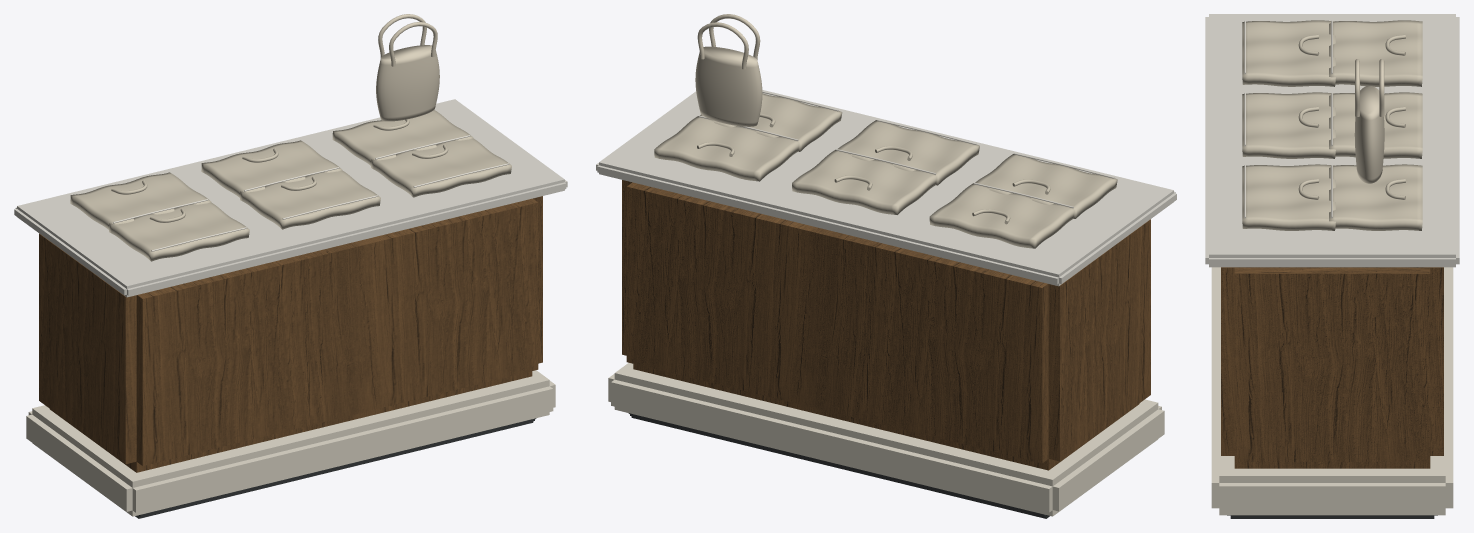
Rendered from collection_v29_apparel_2.glb.
3 renders of one model, left to right at view 1: azimuth 30°, elevation 25°; view 2: azimuth 150°, elevation 25°; view 3: azimuth 270°, elevation 25°, orthographic. The views are drawn at different scales.
Parts seen in each view (by area): view 1: collection_v29_apparel_2_CC0_Oak_veneer, collection_v29_apparel_2_Honed_solid_surface, collection_v29_apparel_2_V29_ivory_lacquer, collection_v29_apparel_2_V23_natural_canvas.001, collection_v29_apparel_2_Woven_1.004, collection_v29_apparel_2_Woven_1.002, collection_v29_apparel_2_Woven_1.006, collection_v29_apparel_2_Woven_1.005, collection_v29_apparel_2_Woven_1.003, collection_v29_apparel_2_Woven_1.007, collection_v29_apparel_2_Anodised_graphite; view 2: collection_v29_apparel_2_CC0_Oak_veneer, collection_v29_apparel_2_Honed_solid_surface, collection_v29_apparel_2_V29_ivory_lacquer, collection_v29_apparel_2_Woven_1.003, collection_v29_apparel_2_Woven_1.007, collection_v29_apparel_2_Woven_1.005, collection_v29_apparel_2_V23_natural_canvas.001, collection_v29_apparel_2_Woven_1.002, collection_v29_apparel_2_Woven_1.004, collection_v29_apparel_2_Woven_1.006, collection_v29_apparel_2_Anodised_graphite; view 3: collection_v29_apparel_2_CC0_Oak_veneer, collection_v29_apparel_2_Honed_solid_surface, collection_v29_apparel_2_V29_ivory_lacquer, collection_v29_apparel_2_Woven_1.002, collection_v29_apparel_2_Woven_1.006, collection_v29_apparel_2_Woven_1.004, collection_v29_apparel_2_Woven_1.003, collection_v29_apparel_2_Woven_1.007, collection_v29_apparel_2_Woven_1.005, collection_v29_apparel_2_V23_natural_canvas.001, collection_v29_apparel_2_Anodised_graphite.
Boxes of the visible parts, box(x1,y1,x2,y2) form: collection_v29_apparel_2_CC0_Oak_veneer: box(39, 196, 542, 472); collection_v29_apparel_2_Honed_solid_surface: box(14, 99, 567, 297); collection_v29_apparel_2_V29_ivory_lacquer: box(26, 370, 555, 516); collection_v29_apparel_2_V23_natural_canvas.001: box(376, 14, 439, 121); collection_v29_apparel_2_Woven_1.004: box(240, 170, 380, 229); collection_v29_apparel_2_Woven_1.002: box(109, 202, 249, 261); collection_v29_apparel_2_Woven_1.006: box(371, 138, 511, 197); collection_v29_apparel_2_Woven_1.005: box(201, 140, 342, 197); collection_v29_apparel_2_Woven_1.003: box(70, 172, 211, 229); collection_v29_apparel_2_Woven_1.007: box(332, 110, 473, 165); collection_v29_apparel_2_Anodised_graphite: box(135, 418, 536, 518); collection_v29_apparel_2_CC0_Oak_veneer: box(622, 180, 1150, 470); collection_v29_apparel_2_Honed_solid_surface: box(596, 90, 1176, 286); collection_v29_apparel_2_V29_ivory_lacquer: box(608, 363, 1164, 516); collection_v29_apparel_2_Woven_1.003: box(929, 183, 1074, 248); collection_v29_apparel_2_Woven_1.007: box(654, 116, 798, 181); collection_v29_apparel_2_Woven_1.005: box(792, 149, 936, 214); collection_v29_apparel_2_V23_natural_canvas.001: box(695, 14, 762, 126); collection_v29_apparel_2_Woven_1.002: box(975, 154, 1117, 218); collection_v29_apparel_2_Woven_1.004: box(837, 120, 979, 185); collection_v29_apparel_2_Woven_1.006: box(700, 93, 842, 151); collection_v29_apparel_2_Anodised_graphite: box(628, 413, 1049, 518); collection_v29_apparel_2_CC0_Oak_veneer: box(1221, 267, 1443, 468); collection_v29_apparel_2_Honed_solid_surface: box(1205, 14, 1459, 267); collection_v29_apparel_2_V29_ivory_lacquer: box(1211, 267, 1453, 515); collection_v29_apparel_2_Woven_1.002: box(1242, 20, 1335, 86); collection_v29_apparel_2_Woven_1.006: box(1242, 164, 1335, 230); collection_v29_apparel_2_Woven_1.004: box(1242, 92, 1335, 158); collection_v29_apparel_2_Woven_1.003: box(1329, 20, 1422, 86); collection_v29_apparel_2_Woven_1.007: box(1329, 164, 1422, 230); collection_v29_apparel_2_Woven_1.005: box(1329, 92, 1422, 158); collection_v29_apparel_2_V23_natural_canvas.001: box(1354, 59, 1384, 183); collection_v29_apparel_2_Anodised_graphite: box(1227, 515, 1437, 518).
Bounding box in the file's own units: 1.86 × 1.5 × 0.82.
17 materials, 1 textured.
